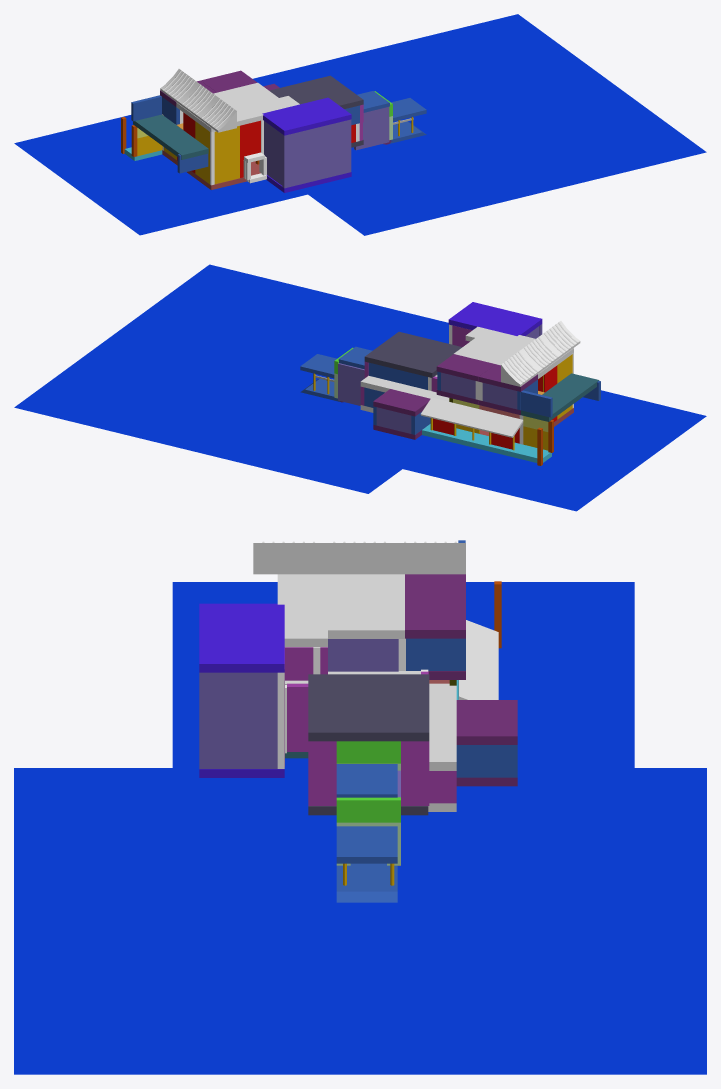
Rendered from Blocky_MainRoomV2.fbx.
3 renders of one model, top to bottom at view 1: azimuth 30°, elevation 25°; view 2: azimuth 150°, elevation 25°; view 3: azimuth 270°, elevation 25°, orthographic. The views are drawn at different scales.
Visible parts, largest first — view 1: Plane.014, Plane.018, Plane.019, Plane.017, Plane.015, Plane.011, Plane.008, Plane.016, Plane.012, Cube.630, Cube.638, Plane.010 (+24 smaller); view 2: Plane.017, Plane.019, Plane.016, Plane.018, Plane.011, Plane.008, Plane.014, Plane.009, Plane.012, Plane.007, Cube.421, Cube.256 (+21 smaller); view 3: Plane.014, Plane.016, Plane.017, Plane.018, Plane.019, Plane.015, Plane.012, Plane.009, Plane.008, Plane.007, Plane.013, Cube.630 (+32 smaller).
Boxes of the visible parts, <box> form: Plane.014: <box>416,134,592,207</box>; Plane.018: <box>530,106,706,179</box>; Plane.019: <box>404,14,580,87</box>; Plane.017: <box>467,60,643,133</box>; Plane.015: <box>308,162,477,235</box>; Plane.011: <box>77,165,253,235</box>; Plane.008: <box>14,115,176,189</box>; Plane.016: <box>290,42,466,102</box>; Plane.012: <box>391,88,529,161</box>; Cube.630: <box>176,82,299,132</box>; Cube.638: <box>262,97,351,135</box>; Plane.010: <box>226,167,367,207</box>; Plane.017: <box>79,312,261,388</box>; Plane.019: <box>14,360,196,436</box>; Plane.016: <box>132,389,315,465</box>; Plane.018: <box>144,264,326,340</box>; Plane.011: <box>554,390,706,463</box>; Plane.008: <box>459,442,641,511</box>; Plane.014: <box>263,293,445,358</box>; Plane.009: <box>251,417,402,493</box>; Plane.012: <box>197,341,336,417</box>; Plane.007: <box>340,429,497,482</box>; Cube.421: <box>364,331,462,377</box>; Cube.256: <box>420,397,523,437</box>; Plane.014: <box>14,870,244,972</box>; Plane.016: <box>476,870,706,972</box>; Plane.017: <box>245,972,475,1074</box>; Plane.018: <box>14,972,244,1074</box>; Plane.019: <box>476,972,706,1074</box>; Plane.015: <box>14,768,244,870</box>; Plane.012: <box>245,870,475,972</box>; Plane.009: <box>476,768,706,870</box>; Plane.008: <box>466,582,634,684</box>; Plane.007: <box>498,684,634,786</box>; Plane.013: <box>245,786,475,870</box>; Cube.630: <box>277,574,404,647</box>.
Bounding box in the file's own units: 17674 × 3397 × 11041.
